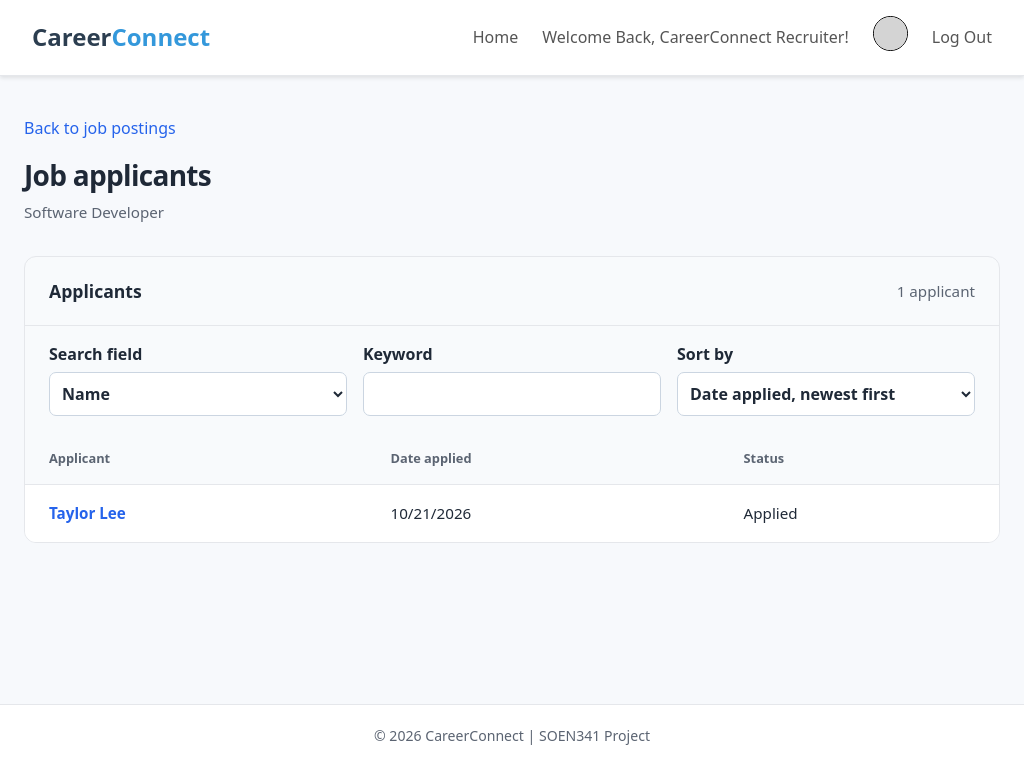
it: refreshes on visibilitychange without polling or losing search and sort settings
This screenshot has width=1024, height=768.
Later steps or results of the test are not shown.
Expected: the link "Taylor Lee" is shown, [49,504,126,524]
Select "Name, A to Z" in the dropdown labelled "Sort by" at (826, 394), box [677,372,975,416]
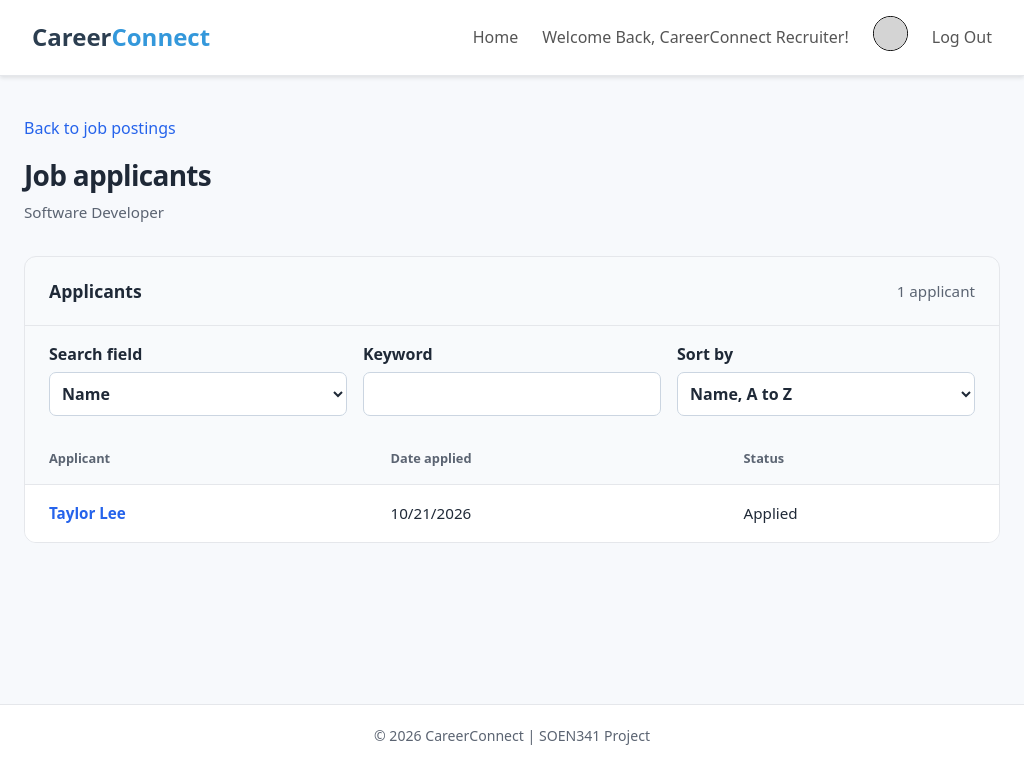
Type "e" into the search field labelled "Keyword" at (512, 394), box [363,372,661,416]
Wait 60000 ms
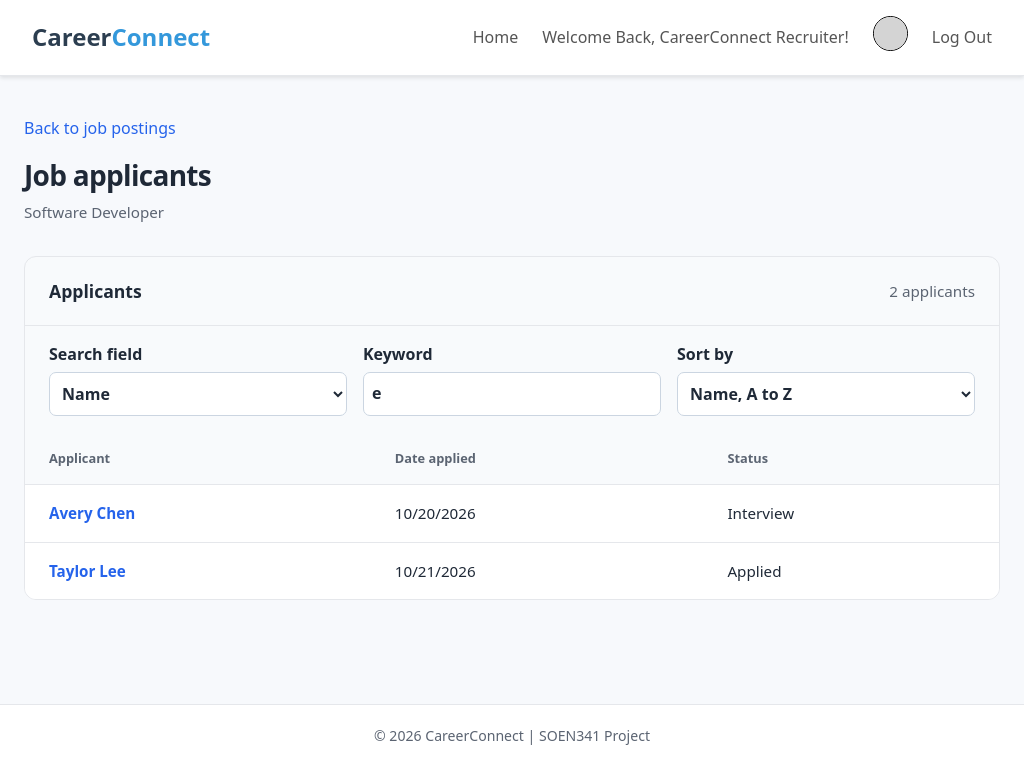
Result: the link "Avery Chen" is shown at [49,504,135,524]
Result: the text "2 applicants" is shown at [889,279,975,304]
